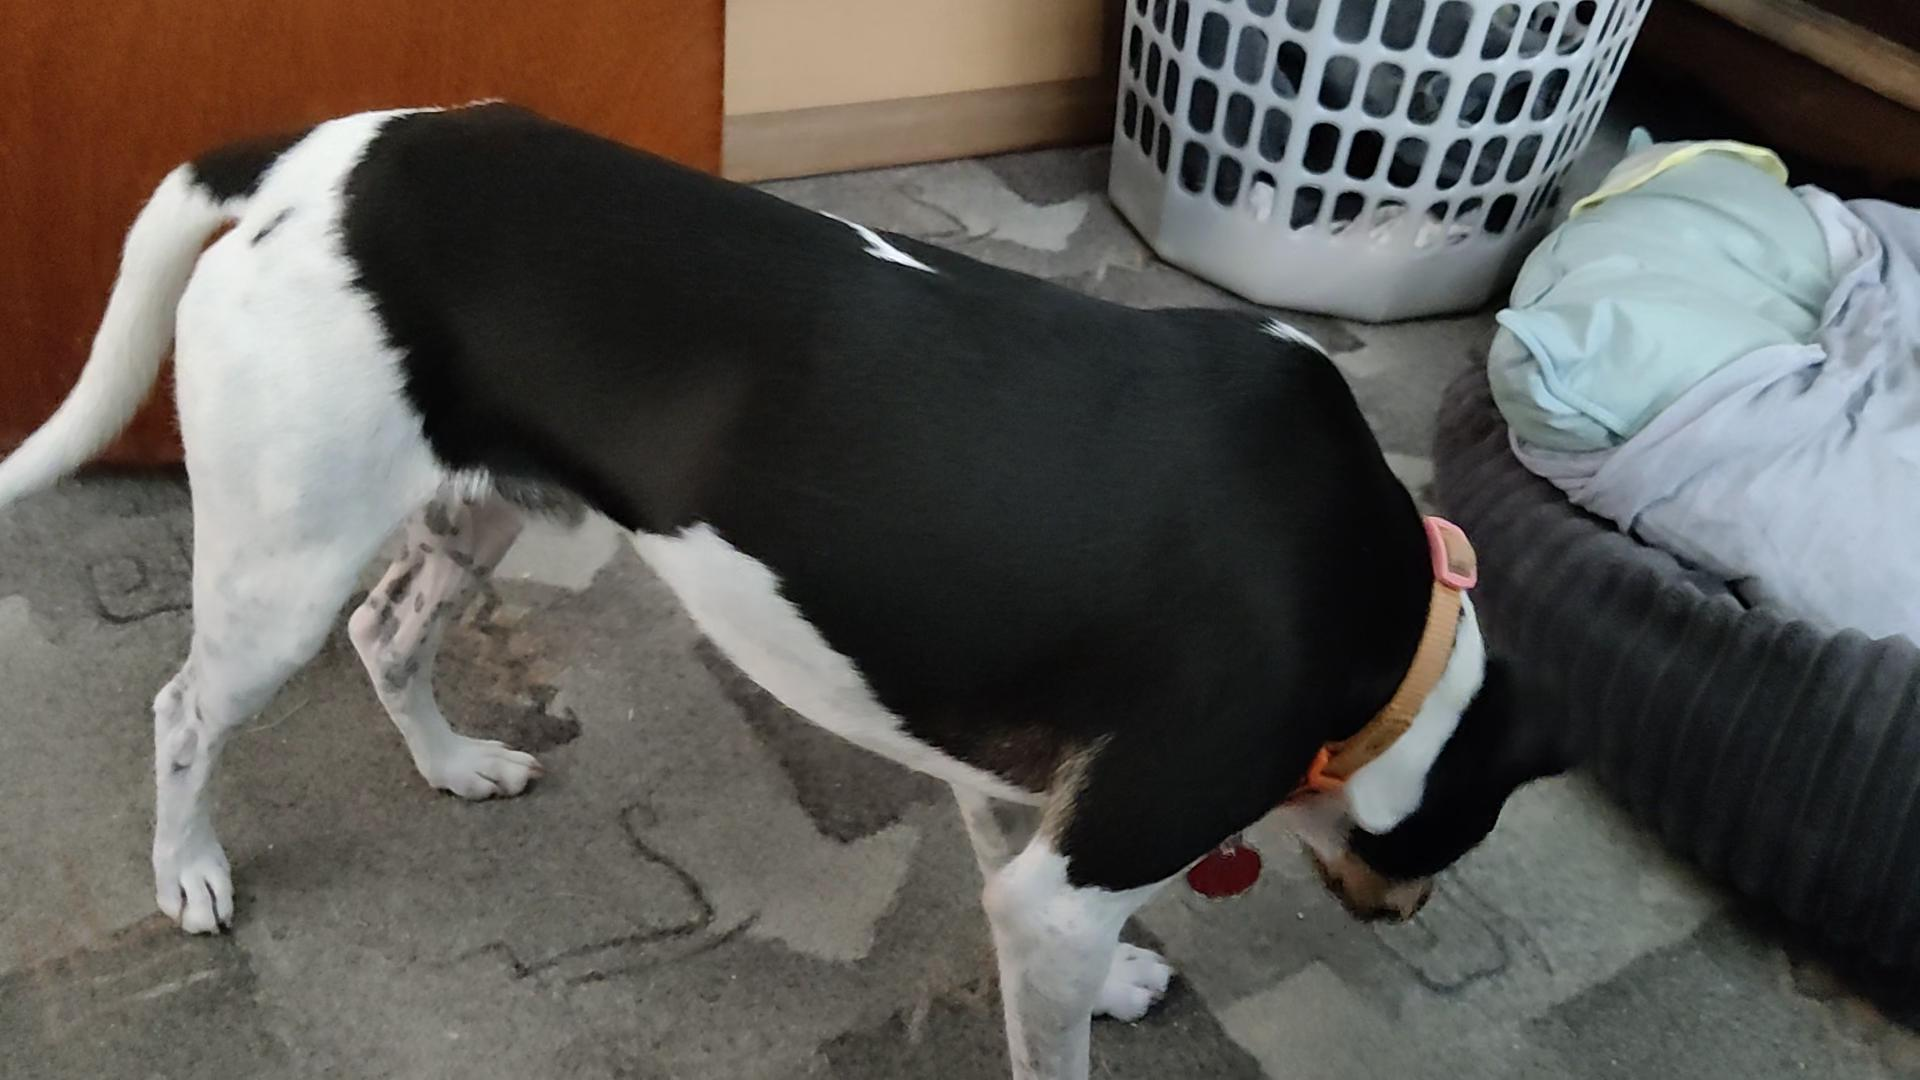Dog: (0, 94, 1592, 1079)
